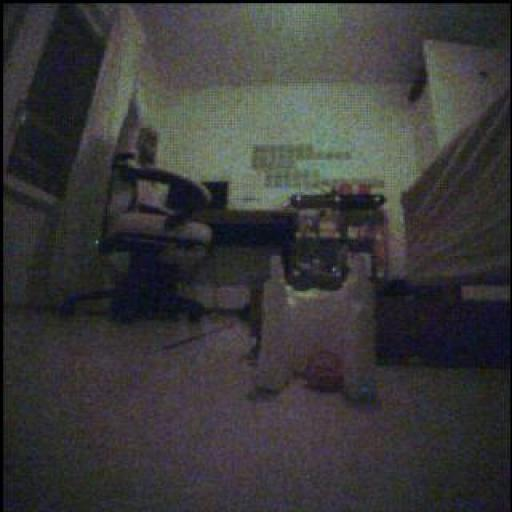basket: (305, 349, 343, 394)
